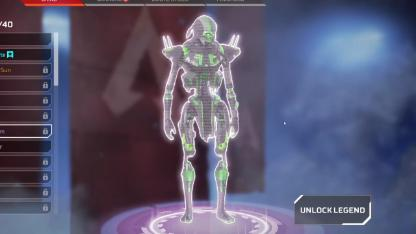Target: (160, 11, 248, 205)
